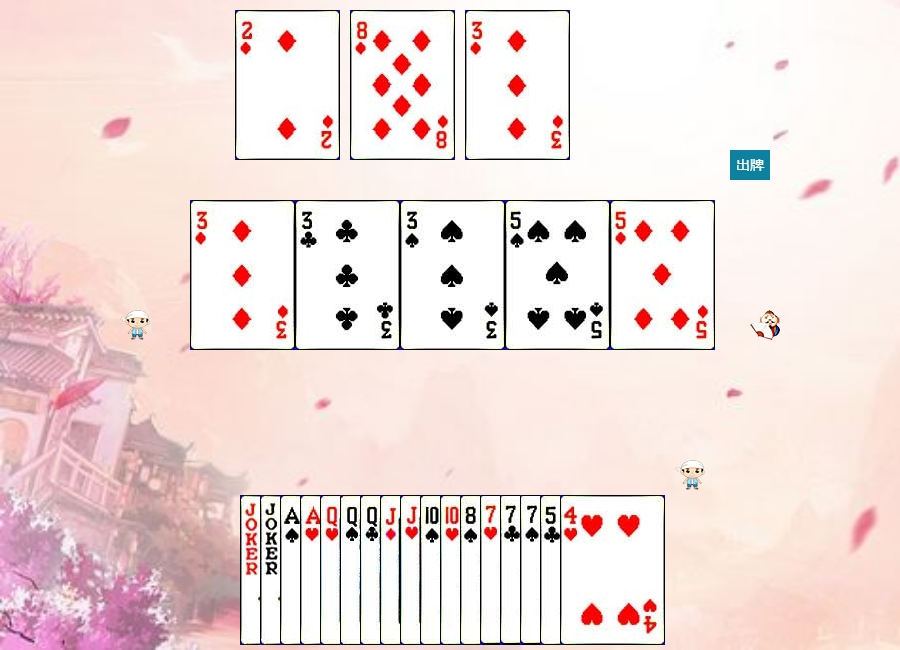10~3: (440, 495, 545, 645)
10~4: (420, 495, 525, 645)
11~1: (380, 495, 485, 645)
11~3: (400, 495, 505, 645)
12~2: (360, 495, 465, 645)
12~3: (320, 495, 425, 645)
12~4: (340, 495, 445, 645)
14~3: (300, 495, 405, 645)
14~4: (280, 495, 385, 645)
15~1: (235, 10, 340, 160)
17~3: (260, 495, 365, 645)
18~4: (240, 495, 345, 645)
3~1: (465, 10, 570, 160), (190, 200, 295, 350)
3~2: (295, 200, 400, 350)
3~4: (400, 200, 505, 350)
4~3: (560, 495, 665, 645)
5~1: (610, 200, 715, 350)
5~2: (540, 495, 645, 645)
5~4: (505, 200, 610, 350)
7~2: (500, 495, 605, 645)
7~3: (480, 495, 585, 645)
7~4: (520, 495, 625, 645)
8~1: (350, 10, 455, 160)
8~4: (460, 495, 565, 645)
